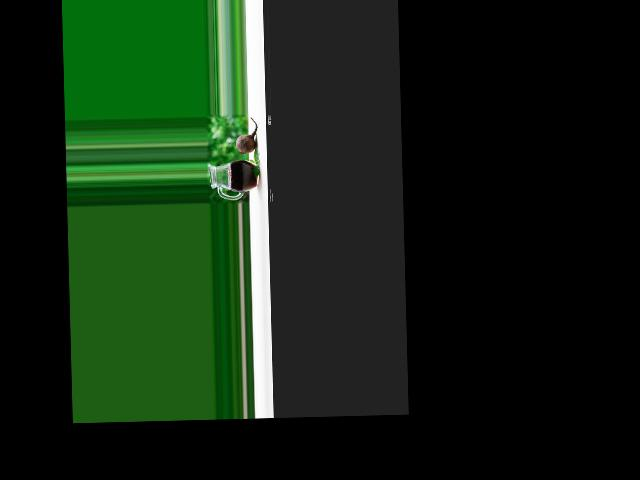beet: (235, 117, 258, 154)
